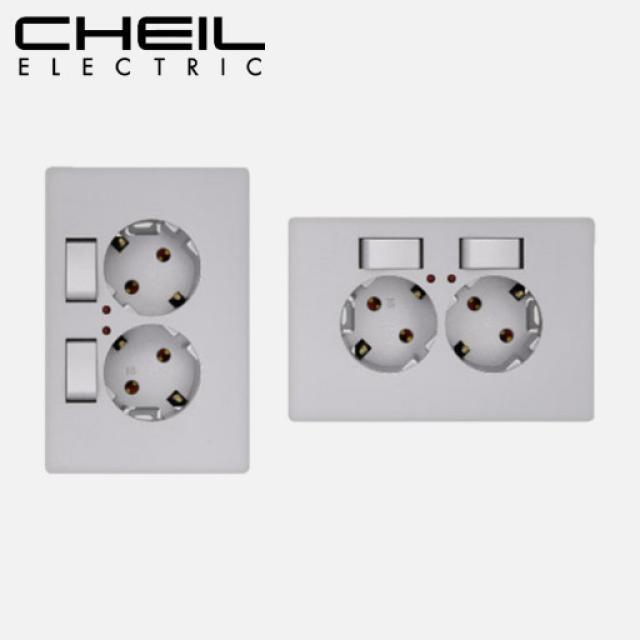typeb: (282, 163, 605, 478), (5, 142, 268, 497)
